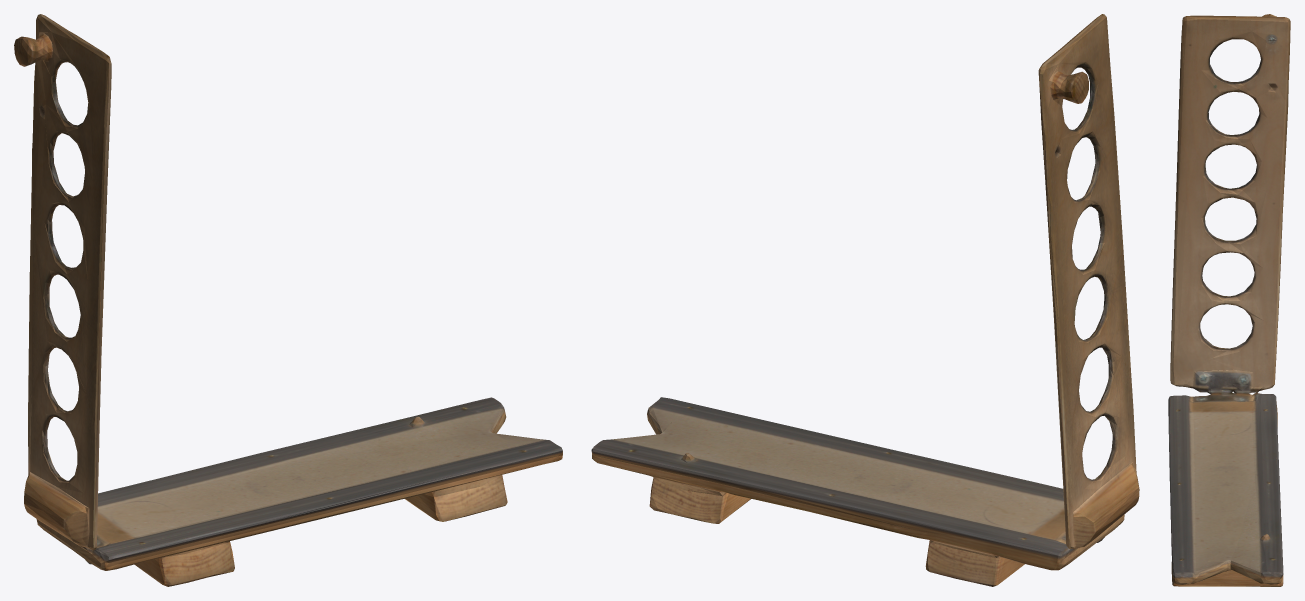
3 views of the same model, side by side, from view 1: azimuth 30°, elevation 25°; view 2: azimuth 150°, elevation 25°; view 3: azimuth 270°, elevation 25° (orthographic). The views are drawn at different scales.
Parts seen in each view (by area): view 1: Pfingstrosen Schablone_2k_2k; view 2: Pfingstrosen Schablone_2k_2k; view 3: Pfingstrosen Schablone_2k_2k.
Boxes of the visible parts, x1=… form: Pfingstrosen Schablone_2k_2k: x1=14, y1=14, x2=562, y2=586; Pfingstrosen Schablone_2k_2k: x1=591, y1=14, x2=1139, y2=586; Pfingstrosen Schablone_2k_2k: x1=1168, y1=14, x2=1290, y2=586.
Size of the model in its own units: 0.2999 by 0.3168 by 0.0831.
1 material, 1 textured.
